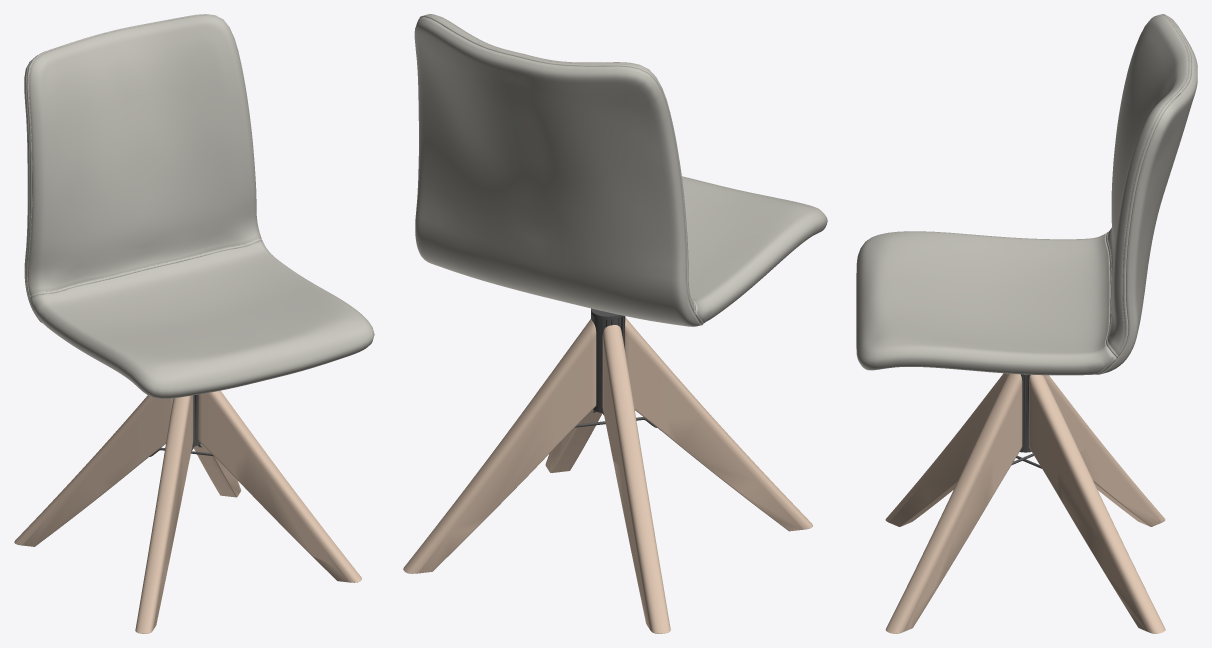
File: cadeira-anne-giratoria.glb
3 views of the same model, side by side, from view 1: azimuth 30°, elevation 25°; view 2: azimuth 150°, elevation 25°; view 3: azimuth 270°, elevation 25° (orthographic). The views are drawn at different scales.
Size of the model in its own units: 0.4604 by 0.8977 by 0.5398.
